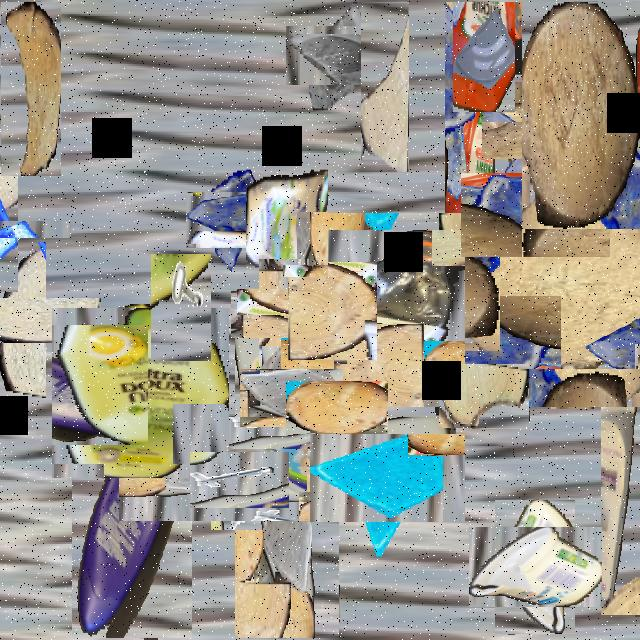glass: (326, 417, 448, 539), (476, 157, 594, 273), (298, 13, 380, 97), (453, 2, 515, 112), (250, 358, 332, 438), (492, 93, 570, 170), (196, 182, 274, 259), (0, 193, 44, 265)
metal: (151, 254, 211, 361), (200, 441, 278, 519)
plastic: (176, 359, 398, 580), (289, 221, 483, 415), (53, 306, 227, 480), (72, 386, 192, 638), (445, 2, 525, 286), (482, 513, 588, 621), (601, 366, 640, 615), (246, 164, 328, 278)
wood: (484, 212, 640, 388), (522, 2, 640, 229), (1, 2, 61, 176), (285, 264, 379, 358), (361, 2, 409, 172), (0, 269, 73, 370), (245, 274, 323, 352), (298, 368, 376, 446), (439, 364, 529, 428), (632, 1, 640, 468)
